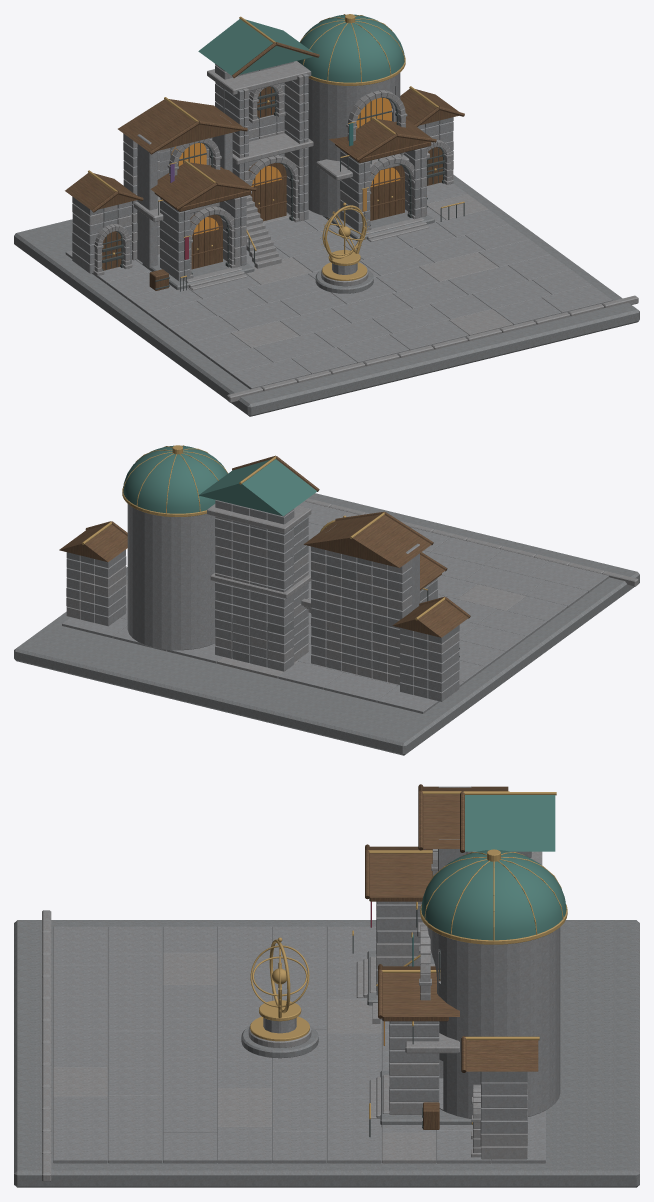
File: arrival-court-v1.glb
The picture shows the model from 3 angles, top to bottom: view 1: azimuth 30°, elevation 25°; view 2: azimuth 150°, elevation 25°; view 3: azimuth 270°, elevation 25°; orthographic projection. The views are drawn at different scales.
Parts seen in each view (by area): view 1: architecture-stone_dusk, architecture-stone_shadow, architecture-stone_worn, architecture-oak_smoked, architecture-copper_patina, architecture-brass_aged, closed-planned-5, portal-frame-insurance, portal-frame-sourcing, portal-frame-rakuten, portal-frame-lottery, closed-reserve (+5 smaller); view 2: architecture-stone_dusk, architecture-stone_shadow, architecture-stone_worn, architecture-copper_patina, architecture-oak_smoked, architecture-brass_aged; view 3: architecture-stone_dusk, architecture-stone_shadow, architecture-stone_worn, architecture-copper_patina, architecture-oak_smoked, architecture-brass_aged, portal-frame-lottery, closed-planned-6.
Boxes of the visible parts, x1,y1,x2,y2 form: architecture-stone_dusk: [65, 61, 612, 389]; architecture-stone_shadow: [14, 82, 639, 416]; architecture-stone_worn: [72, 61, 638, 402]; architecture-oak_smoked: [65, 42, 464, 290]; architecture-copper_patina: [198, 14, 404, 82]; architecture-brass_aged: [88, 14, 464, 280]; closed-planned-5: [93, 224, 132, 275]; portal-frame-insurance: [183, 206, 238, 279]; portal-frame-sourcing: [248, 155, 299, 222]; portal-frame-rakuten: [361, 155, 419, 230]; portal-frame-lottery: [346, 90, 407, 154]; closed-reserve: [248, 84, 285, 123]; architecture-stone_dusk: [62, 499, 608, 713]; architecture-stone_shadow: [14, 493, 639, 755]; architecture-stone_worn: [66, 498, 638, 684]; architecture-copper_patina: [123, 445, 316, 516]; architecture-oak_smoked: [59, 455, 470, 637]; architecture-brass_aged: [82, 445, 445, 620]; architecture-stone_dusk: [53, 786, 560, 1163]; architecture-stone_shadow: [14, 902, 639, 1187]; architecture-stone_worn: [42, 851, 542, 1181]; architecture-copper_patina: [421, 795, 566, 940]; architecture-oak_smoked: [365, 784, 538, 1129]; architecture-brass_aged: [250, 791, 567, 1119]; portal-frame-lottery: [411, 924, 440, 1000]; closed-planned-6: [471, 1084, 481, 1157].
Size of the model in its own units: 23.97 by 11.46 by 24.
12 materials, 4 textured.
